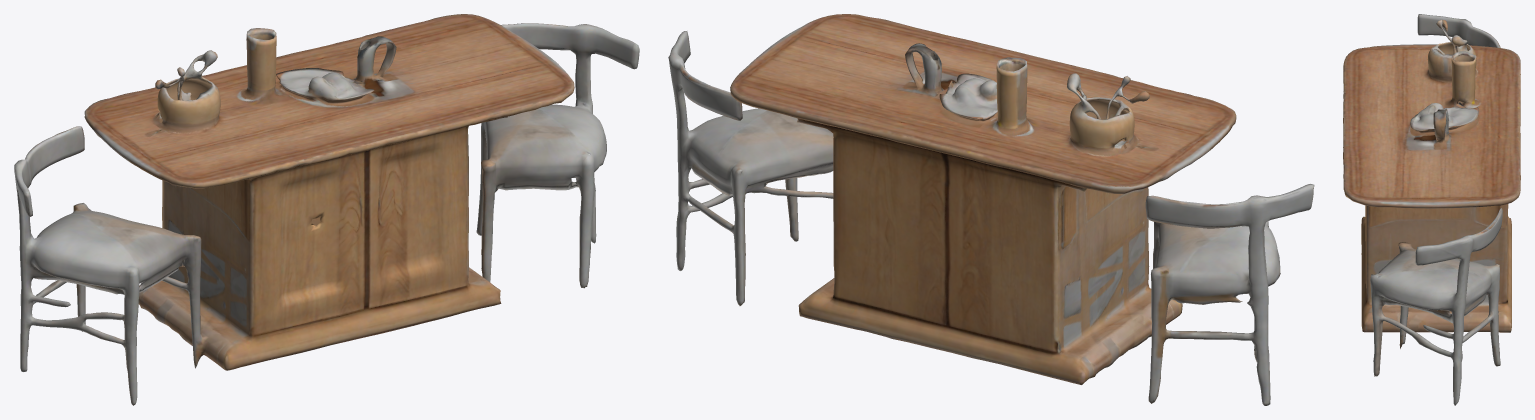
3 views of the same model, side by side, from view 1: azimuth 30°, elevation 25°; view 2: azimuth 150°, elevation 25°; view 3: azimuth 270°, elevation 25° (orthographic). The views are drawn at different scales.
Bounding box in the file's own units: 2 × 0.8957 × 0.6406.
Materials: 1 (1 with a texture image).
